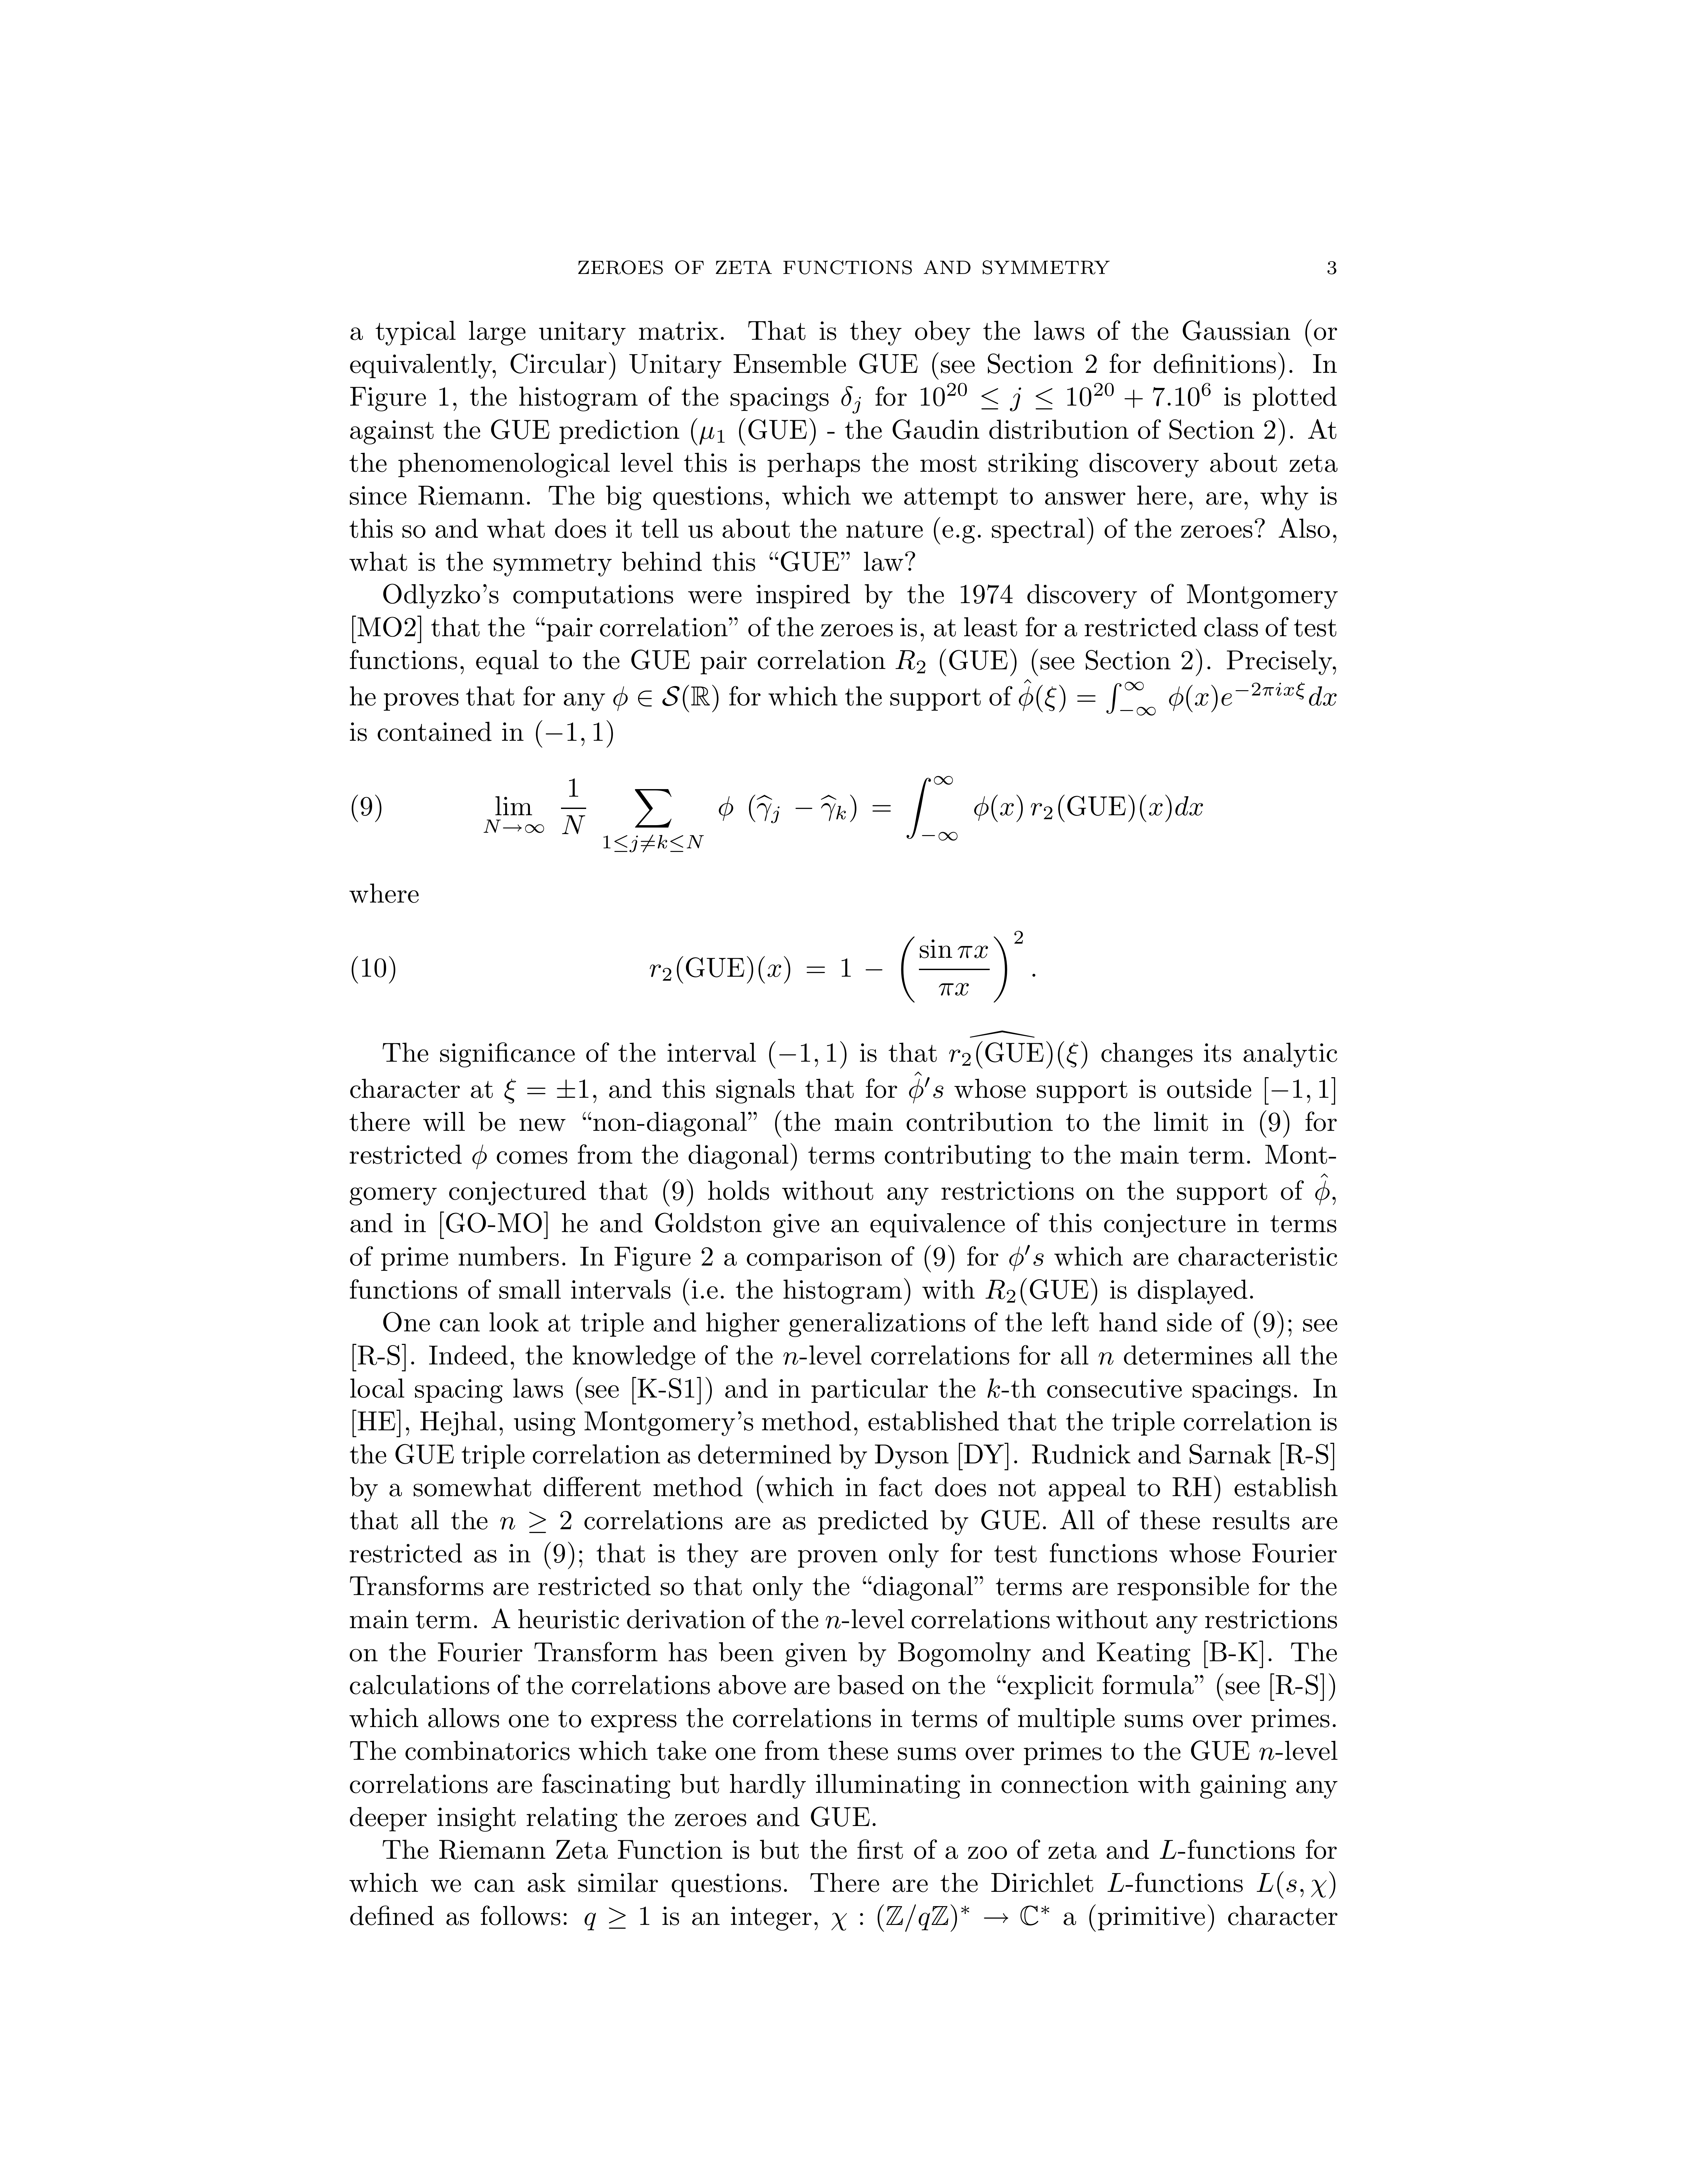maths: (484, 776, 1203, 853), (650, 931, 1022, 1002), (1019, 679, 1336, 716), (920, 383, 1210, 411), (877, 1904, 1076, 1932), (950, 1030, 1086, 1069), (613, 684, 718, 713), (535, 720, 613, 748), (769, 1041, 845, 1069), (1256, 1872, 1334, 1899), (505, 1078, 588, 1103), (500, 1510, 571, 1533), (585, 1907, 649, 1930), (909, 1073, 943, 1103), (1010, 1244, 1044, 1271), (895, 651, 925, 674), (985, 1280, 1015, 1303), (842, 386, 861, 413), (1315, 1174, 1329, 1205), (700, 427, 725, 445), (473, 1145, 487, 1168), (1108, 1874, 1123, 1891), (831, 1913, 847, 1930), (783, 1353, 797, 1365), (1099, 1353, 1113, 1365), (1260, 1748, 1274, 1760)
